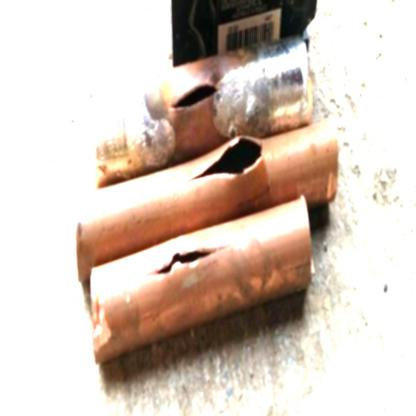burst: (196, 132, 275, 194), (145, 241, 232, 285), (165, 73, 225, 118)
